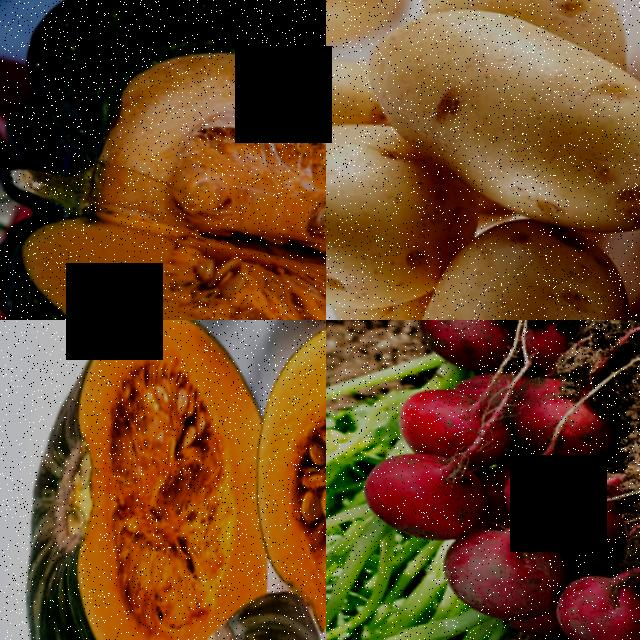potato: (330, 0, 640, 254), (344, 189, 640, 320), (326, 77, 471, 320)
pumpkin: (0, 0, 326, 311), (0, 320, 286, 640), (0, 147, 326, 320), (194, 320, 326, 637), (157, 574, 326, 640)
radishes: (326, 320, 640, 640)
